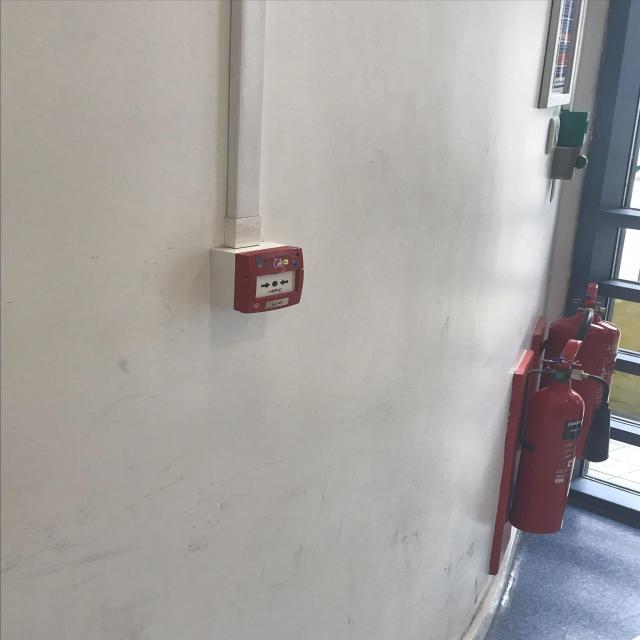fire_extinguisher: (501, 336, 615, 538), (522, 279, 624, 488)
